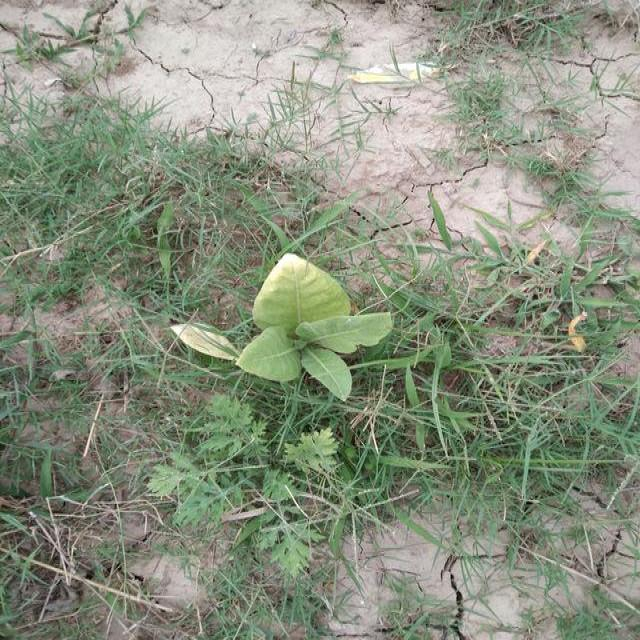crop: (172, 240, 394, 413)
